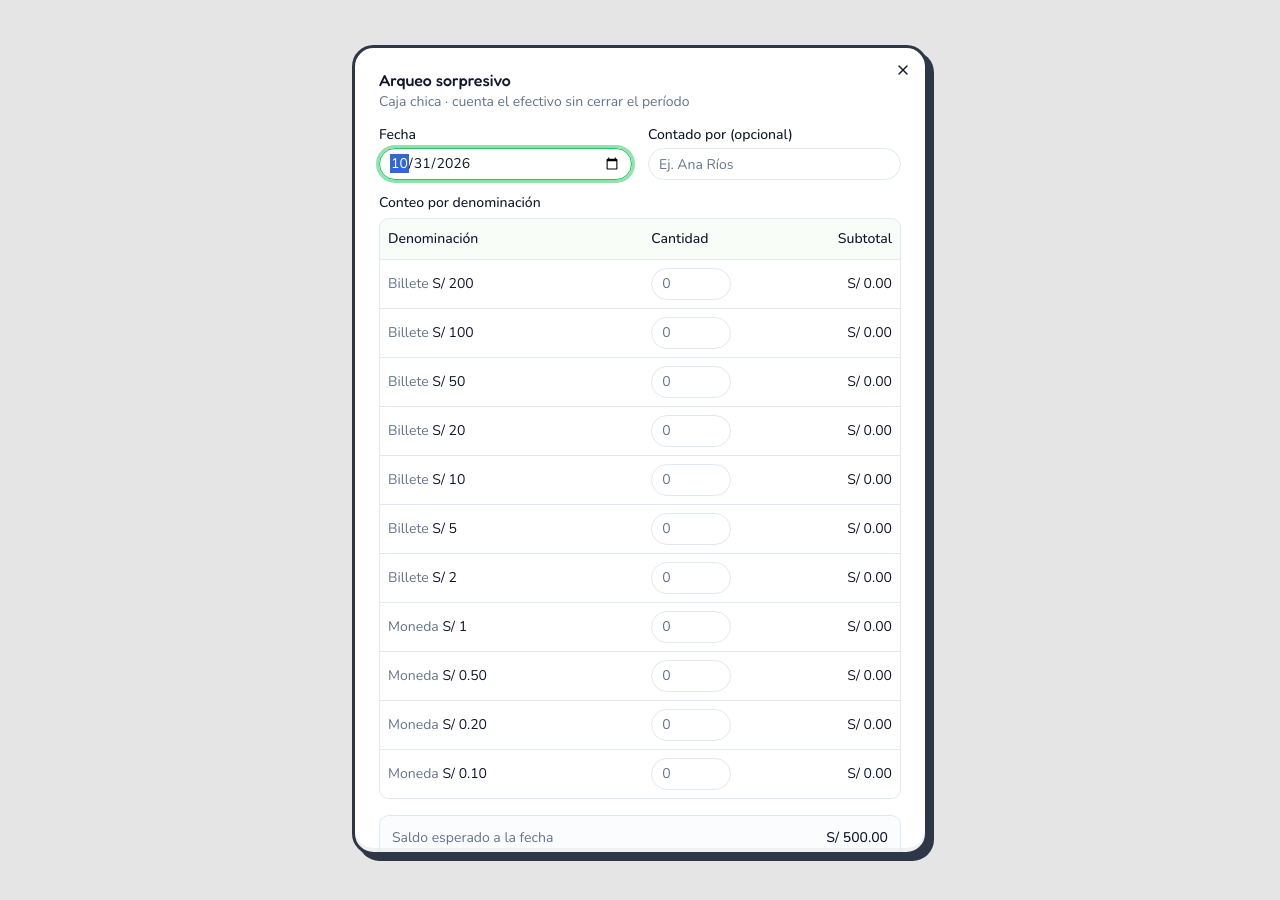
Test: CashCountModal › muestra la grilla y la diferencia en vivo para una caja
The width and height of the screenshot is (1280, 900).
Expected: the heading "Arqueo sorpresivo" is shown, left=379, top=70, right=511, bottom=90
Type "2" into the number field named "Cantidad de S/ 200" at (691, 284), box left=651, top=268, right=731, bottom=300
(page scrolled)
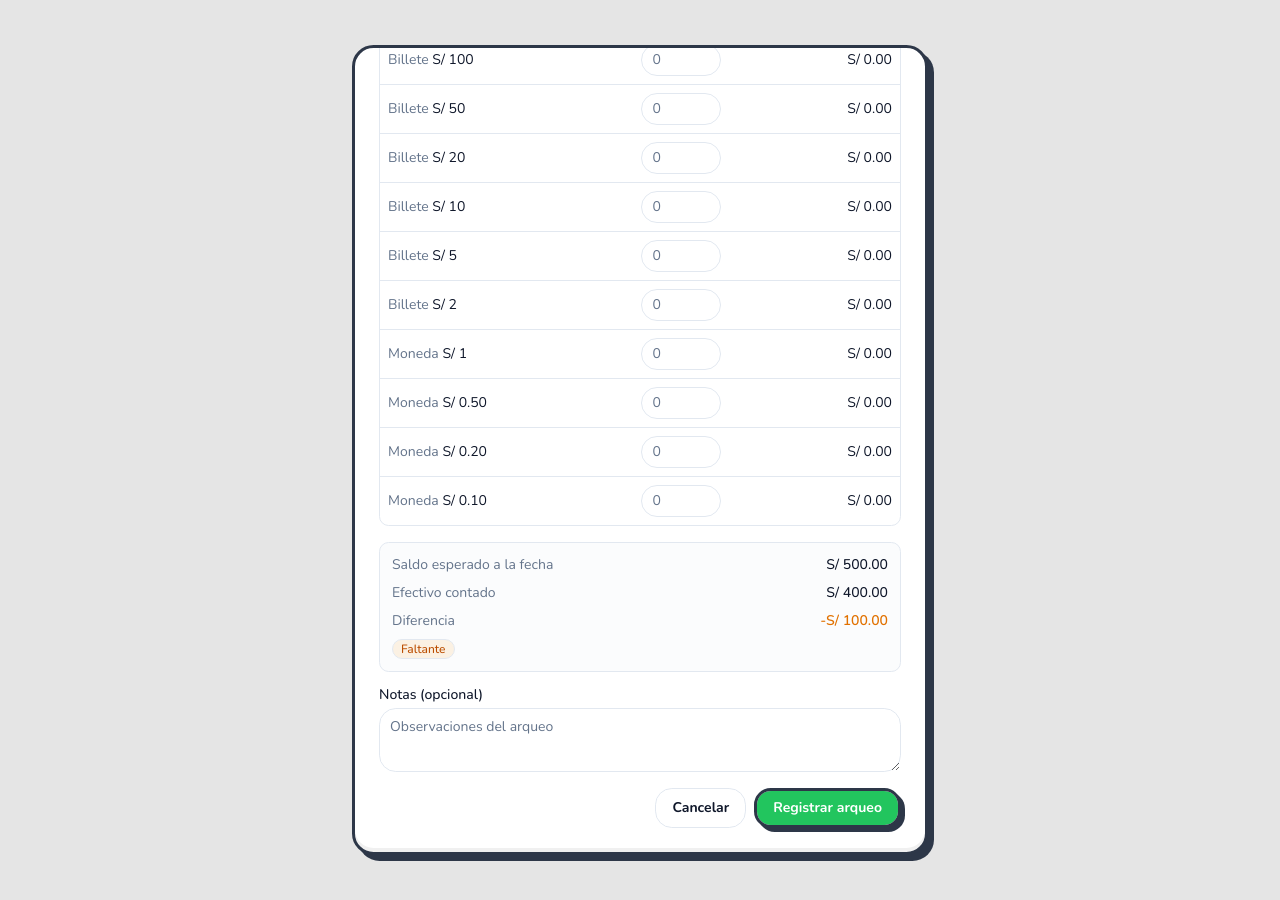
Result: the text "Faltante" is shown at left=392, top=638, right=454, bottom=658
